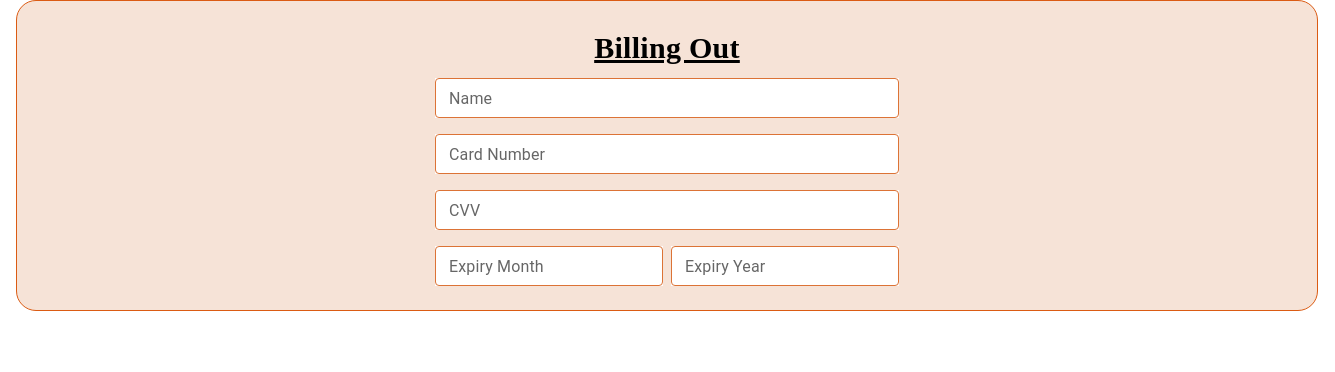
Test: <EditProfileBillingOut> › should display an error if the expiry of the card is not valid
This screenshot has width=1335, height=372.
Type "02" into the field labelled "Expiry Month".
click(549, 266); type("02")  # box [435, 246, 663, 286]
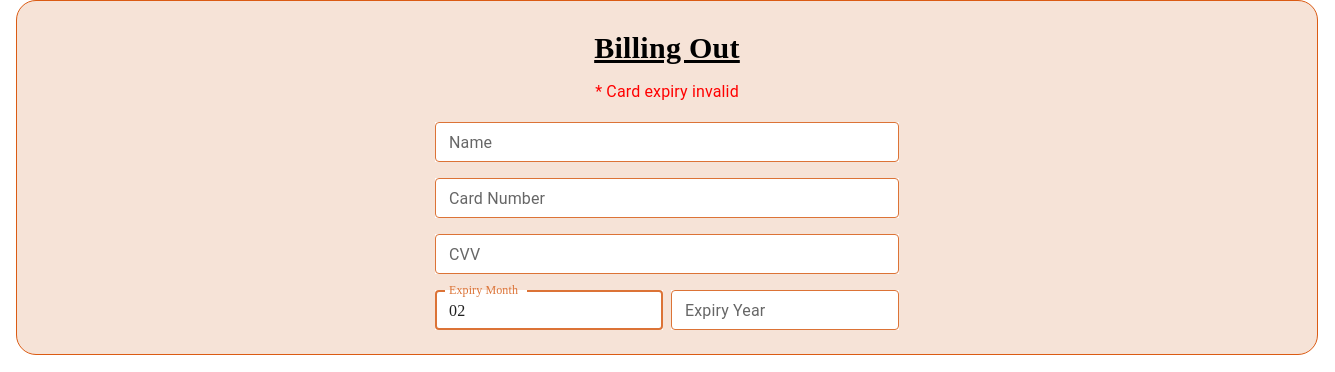
Type "1999" into the field labelled "Expiry Year".
click(785, 310); type("1999")  # box [671, 290, 899, 330]
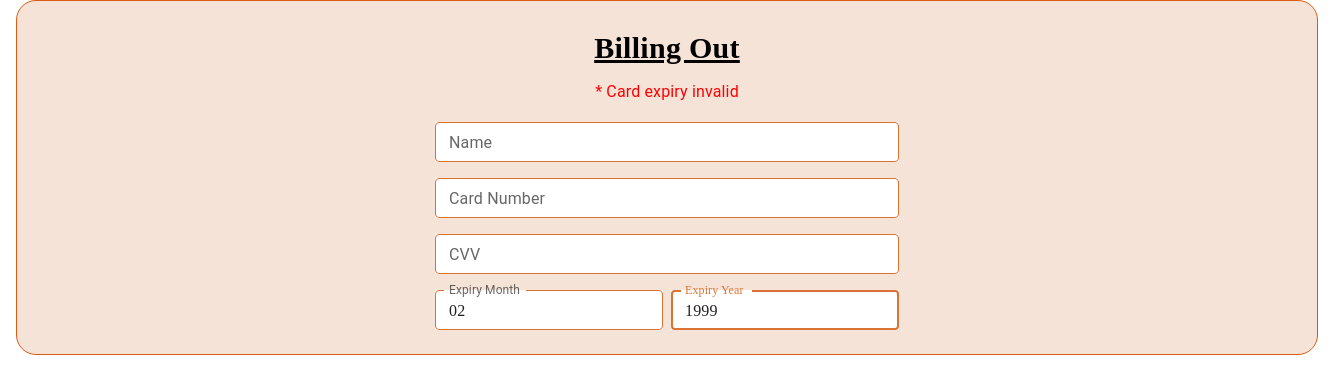
Now the heading "* Card expiry invalid" is shown, box [595, 82, 739, 101]
# Should disappear if the expiry is now valid
Clear the field labelled "Expiry Month" at coordinates (549, 310), box [435, 290, 663, 330]
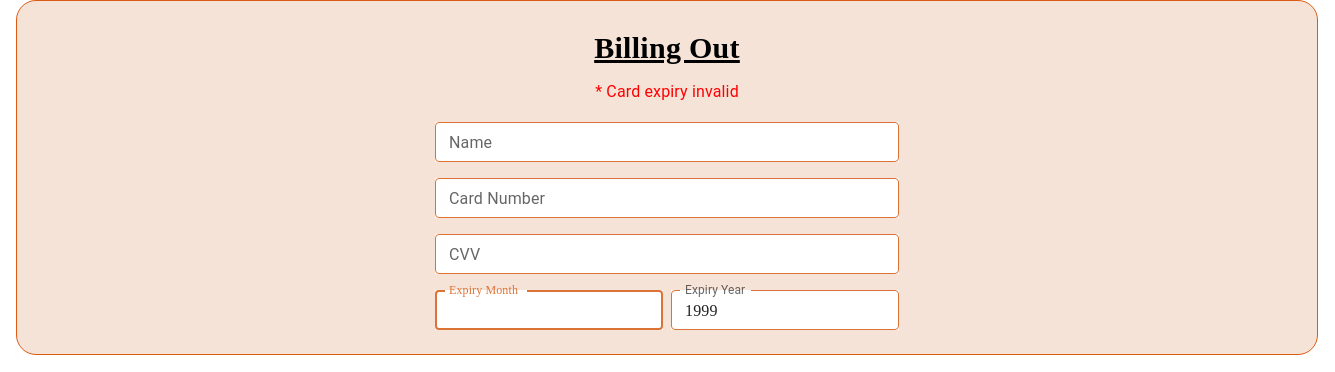
Clear the field labelled "Expiry Year" at coordinates (785, 310), box [671, 290, 899, 330]
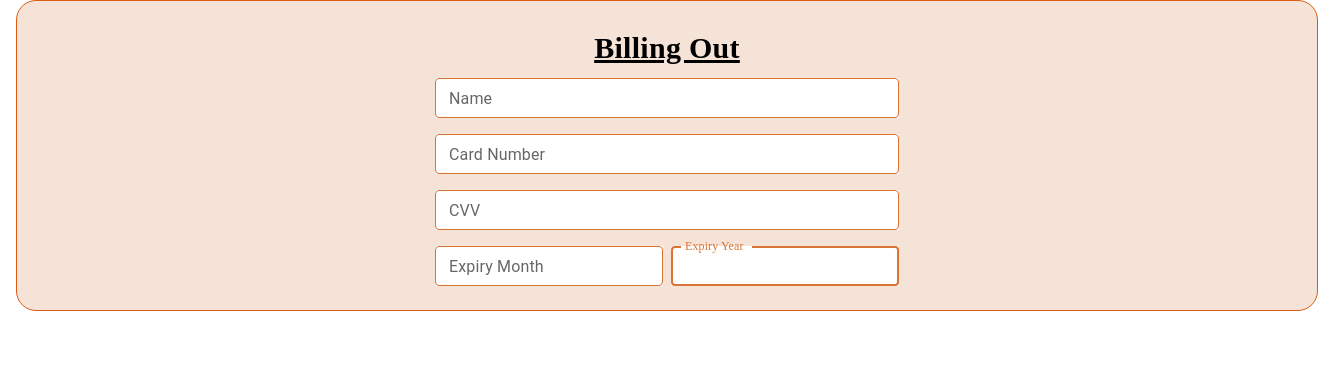
Type "02" into the field labelled "Expiry Month".
click(549, 266); type("02")  # box [435, 246, 663, 286]
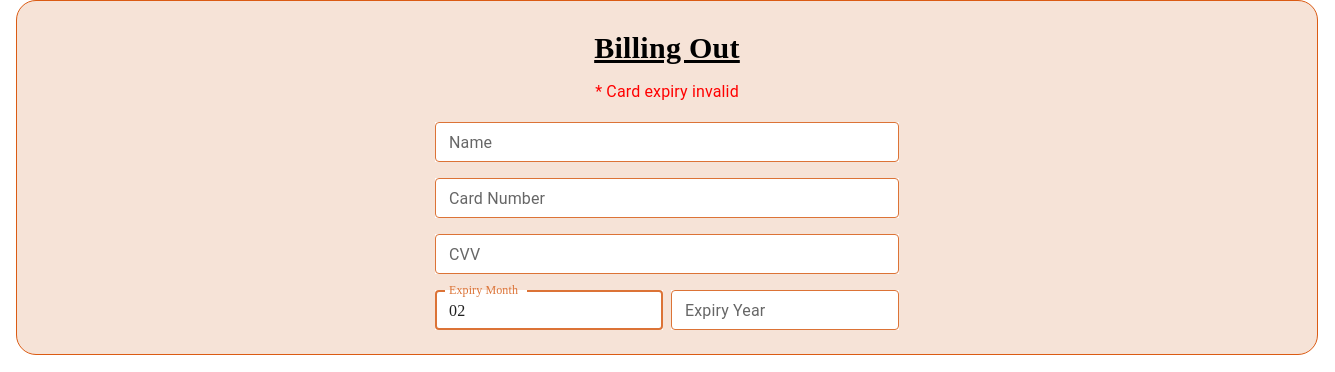
Type "2030" into the field labelled "Expiry Year".
click(785, 310); type("2030")  # box [671, 290, 899, 330]
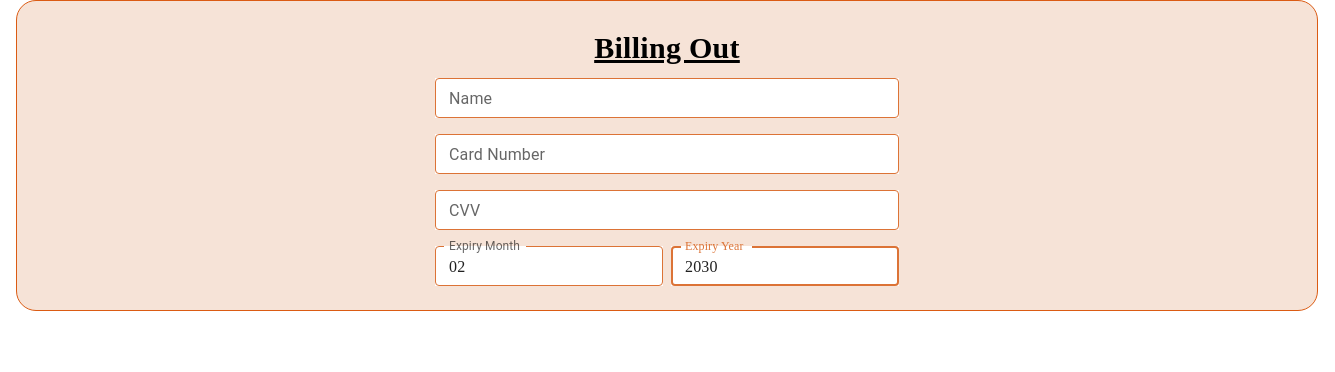
Now the heading "* Card expiry invalid" is gone
